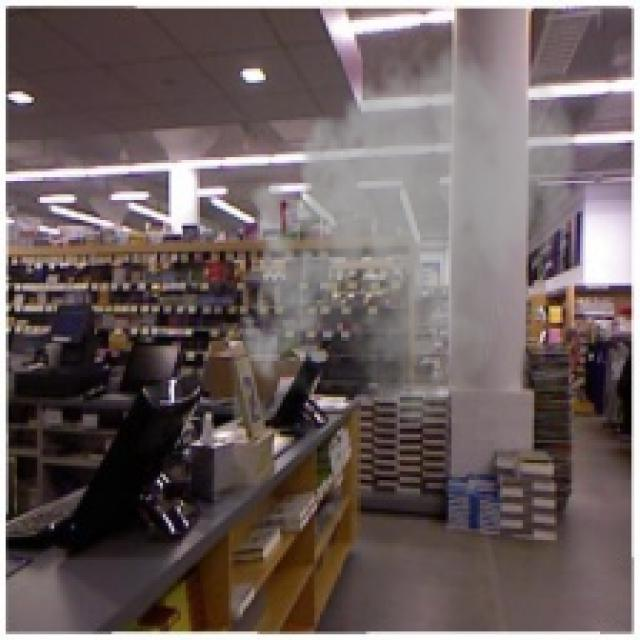smoke: (228, 29, 586, 428)
